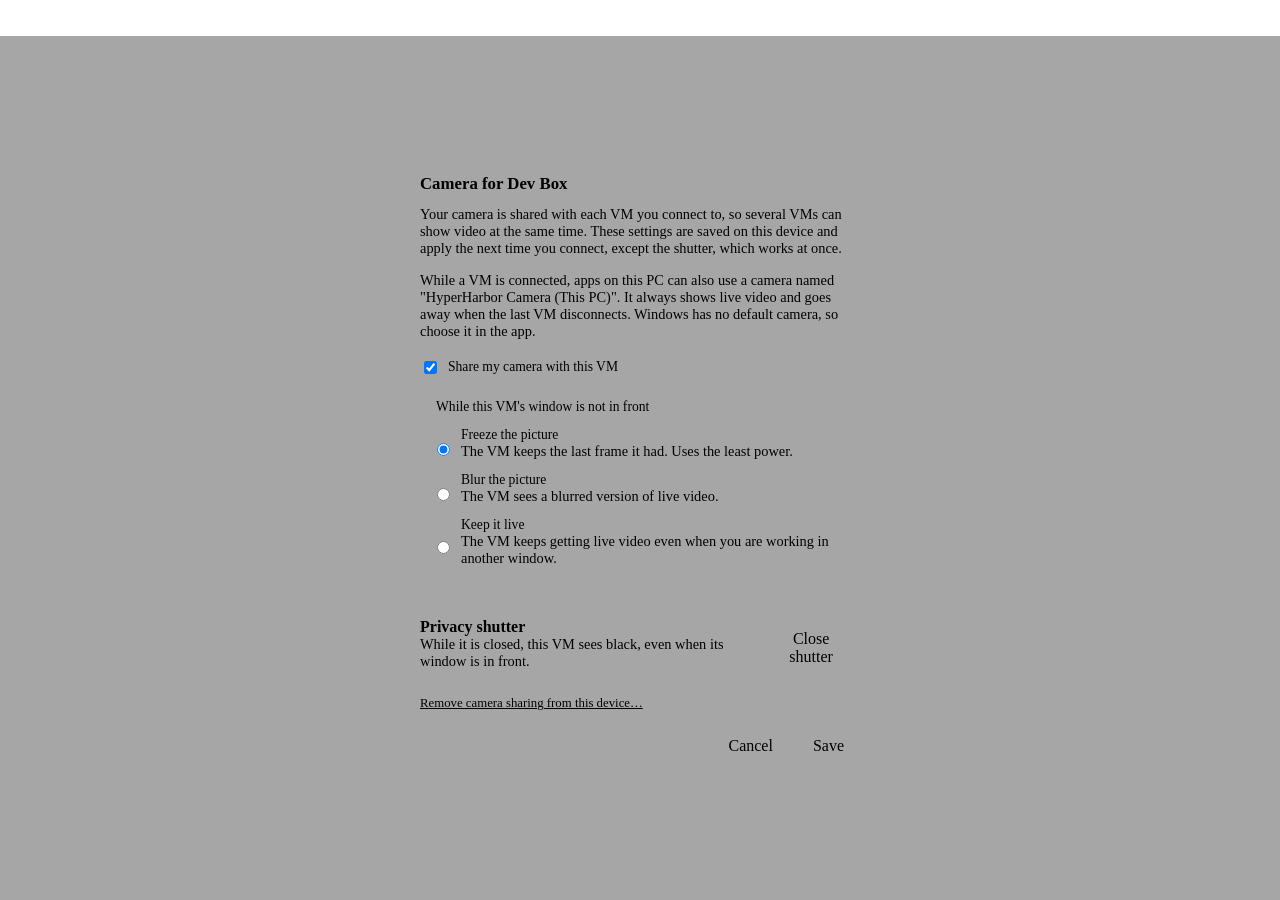
Test: CameraDialog › keeps camera sharing when the confirmation is declined
Click the button "Remove camera sharing from this device…": (531, 704) [420,696,643,711]
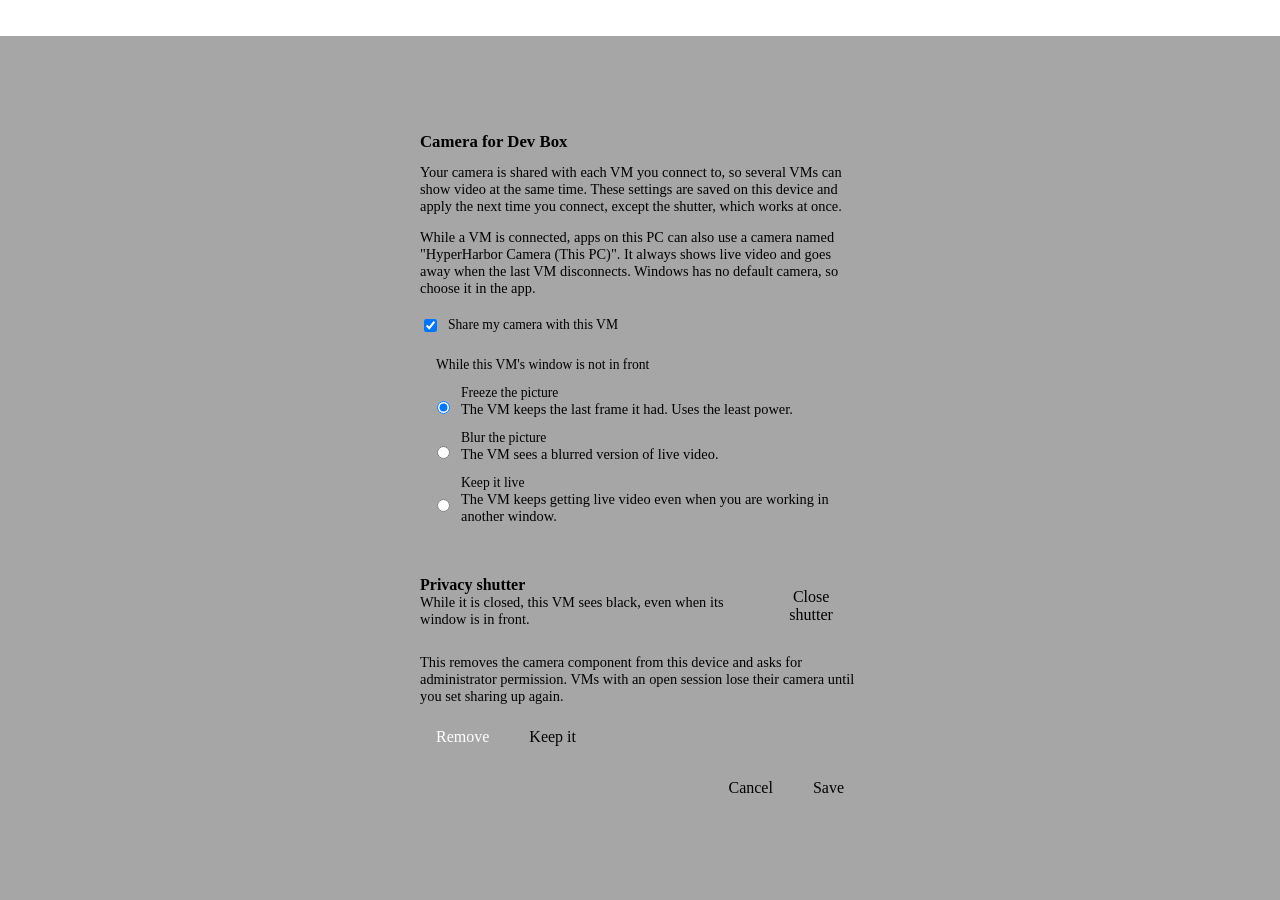
Click the button "Keep it": (553, 737) [513,721,592,753]
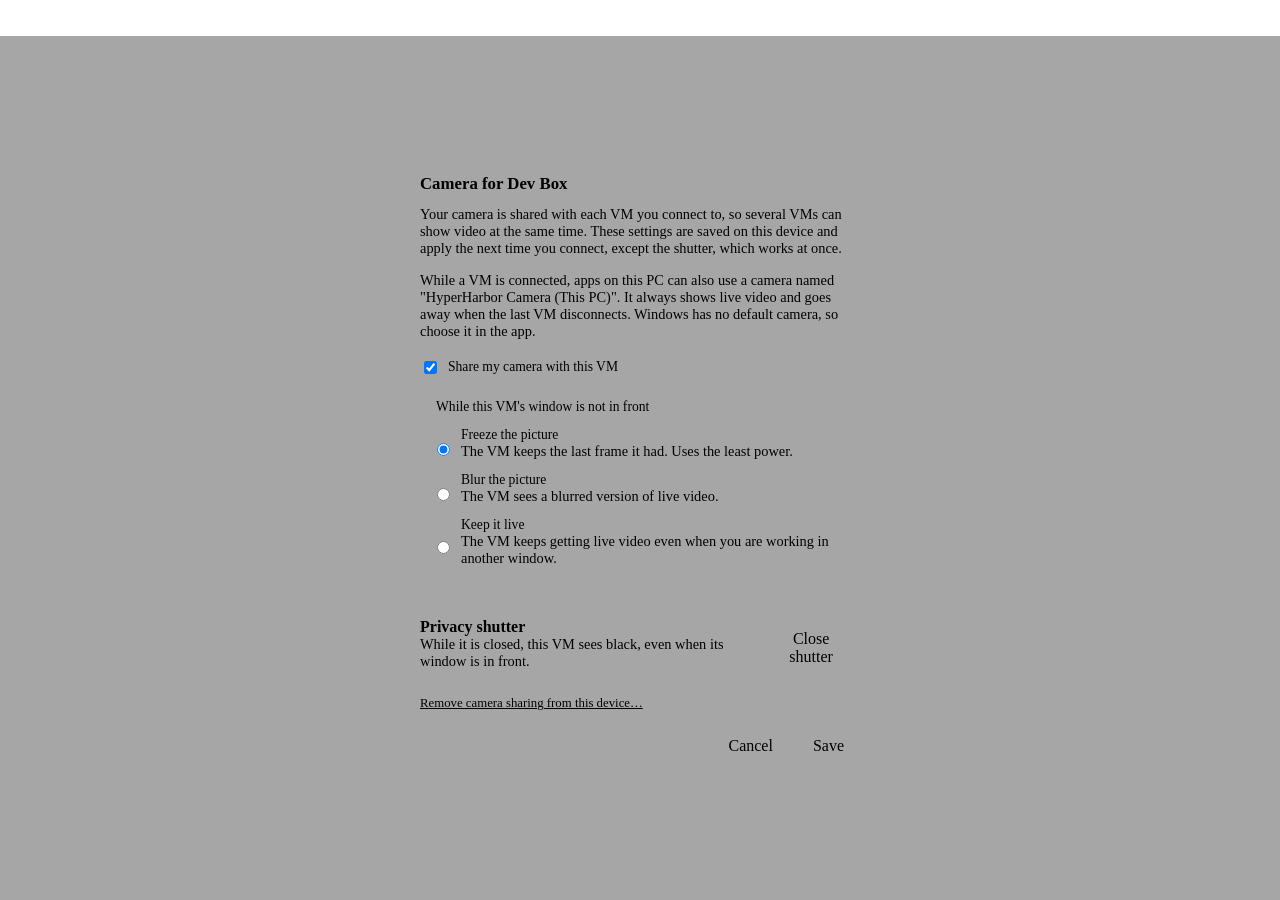
Check: the button "Remove camera sharing from this device…" is shown, box [420,696,643,711]
